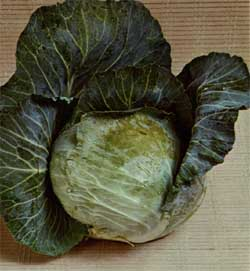cabbage: (0, 0, 249, 257)
